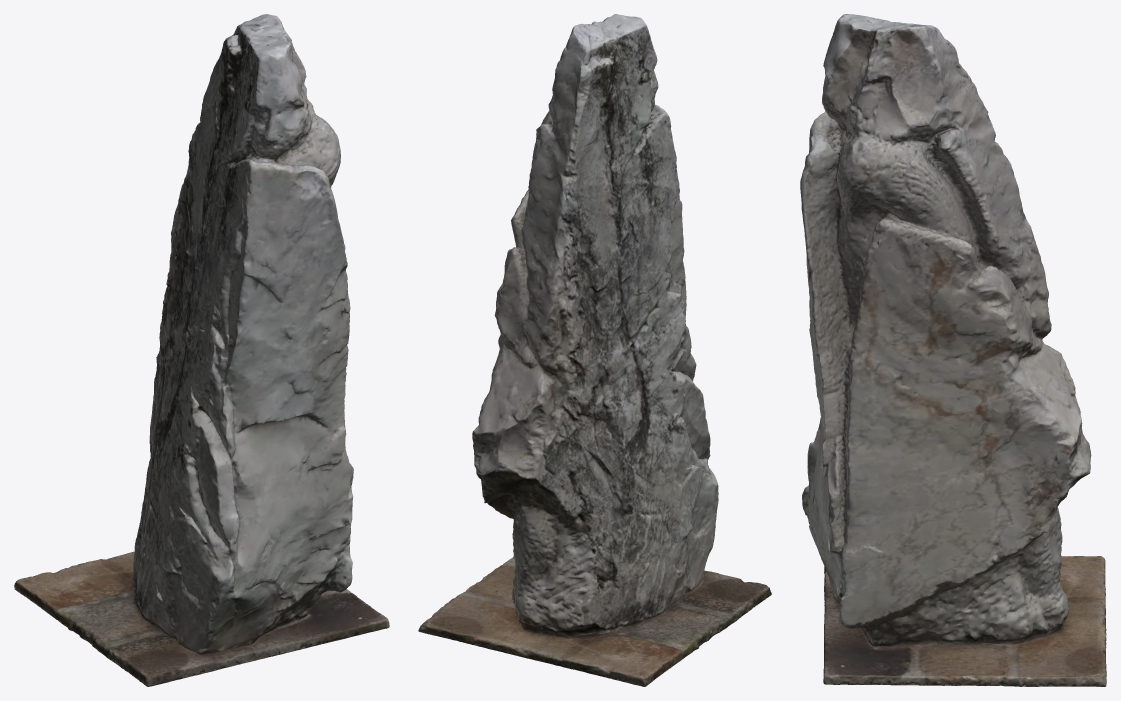
Rendered from preview.glb.
3 renders of one model, left to right at view 1: azimuth 30°, elevation 25°; view 2: azimuth 150°, elevation 25°; view 3: azimuth 270°, elevation 25°, orthographic. The views are drawn at different scales.
Parts seen in each view (by area): view 1: Object_2; view 2: Object_2; view 3: Object_2.
Boxes of the visible parts, box(x1,y1,x2,y2) form: Object_2: box(14, 14, 389, 686); Object_2: box(418, 14, 771, 686); Object_2: box(800, 14, 1106, 686).
Size of the model in its own units: 1.24 by 2.89 by 1.29.
1 material, 1 textured.
